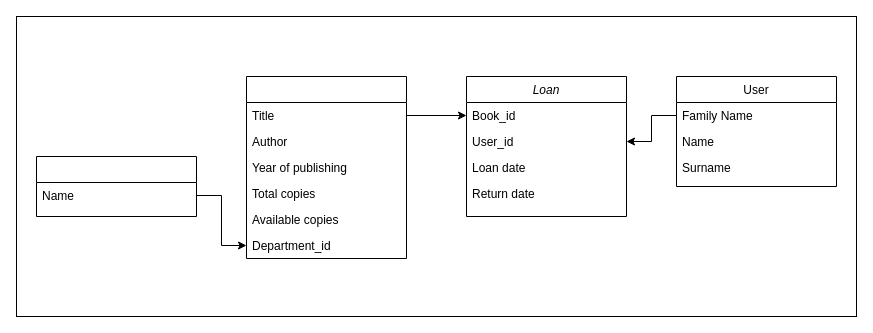
Some shapes in this 873 by 333 pixel diagram are drawn without their labels. Here are the shapes that lost their labels. From the top down, the box of each, then its label:
(36, 156, 196, 216): Department
(246, 76, 406, 258): Book
